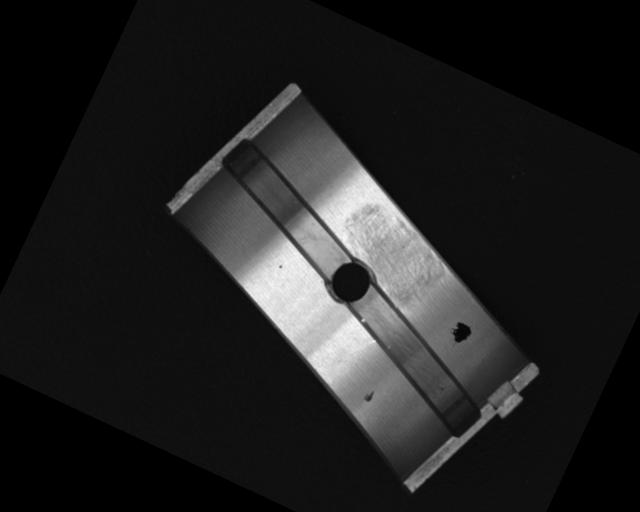blot: (447, 319, 474, 347)
bruise: (361, 387, 377, 406), (277, 263, 283, 270)
gap: (318, 278, 514, 443), (192, 130, 378, 285)
hole: (317, 249, 384, 317)
nick: (338, 330, 377, 373)
scratch: (322, 192, 463, 316)
